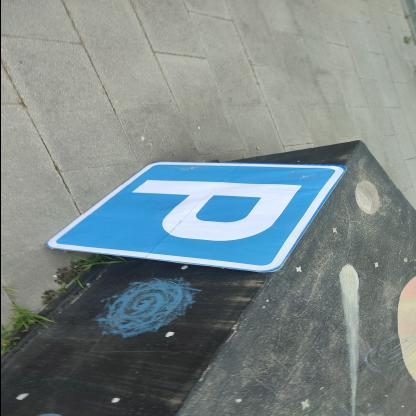Parking-Sign: (41, 162, 347, 275)
